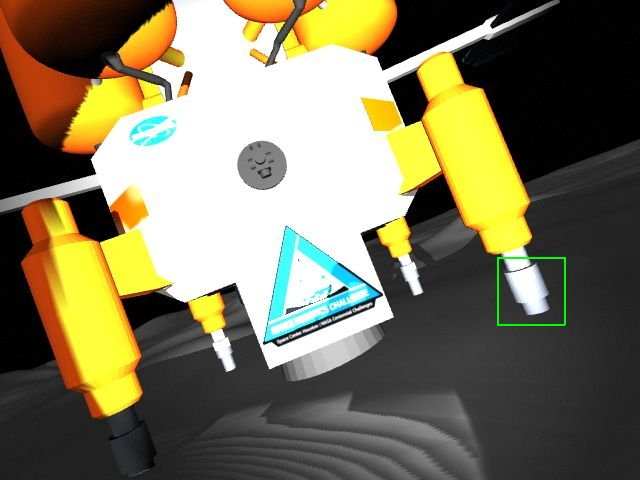basemarker: (263, 226, 384, 347)
